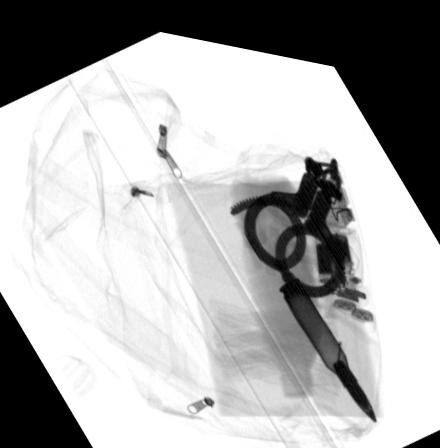Bullet: (277, 265, 376, 409)
HandCuffs: (227, 143, 346, 287)
